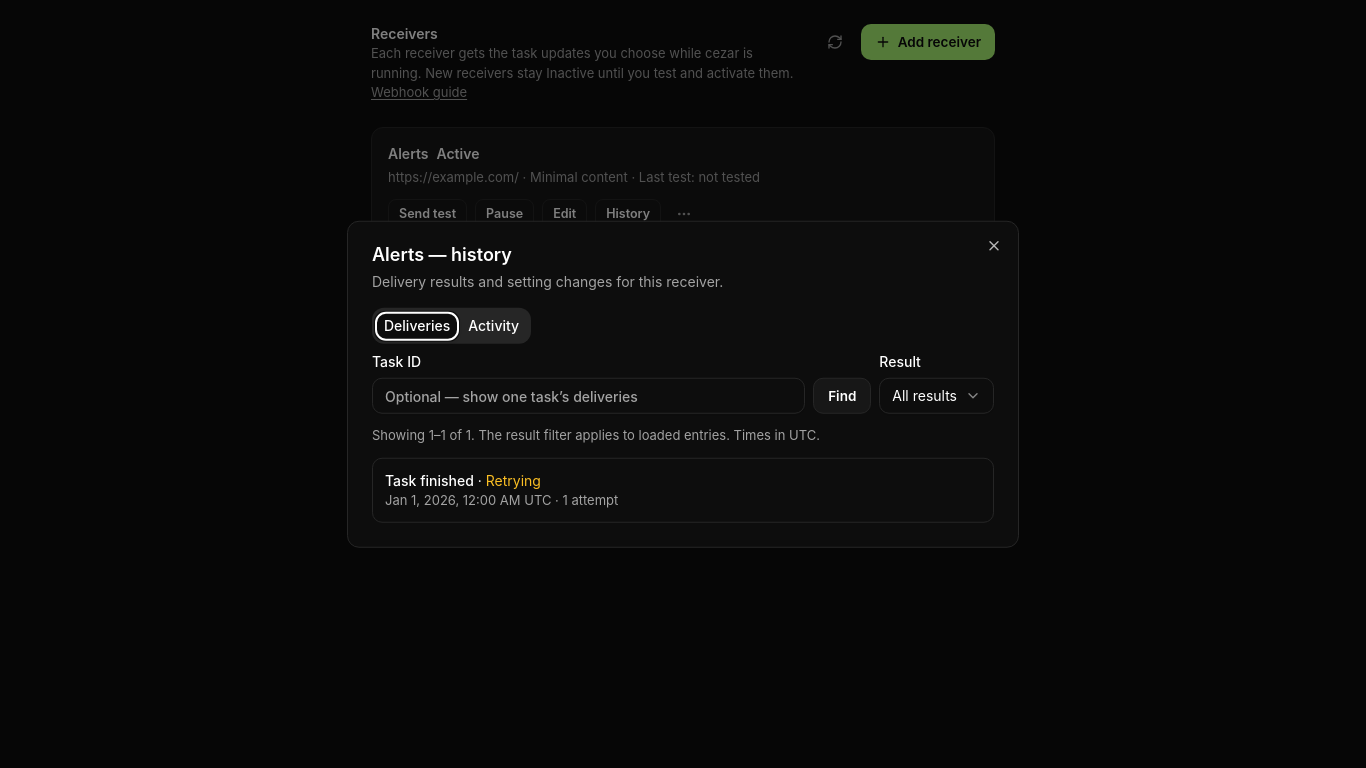
it: retry Cancel restores focus inside the still-open history
Click the button "Task finished" at x=429, y=480, box [385,470,981,509]
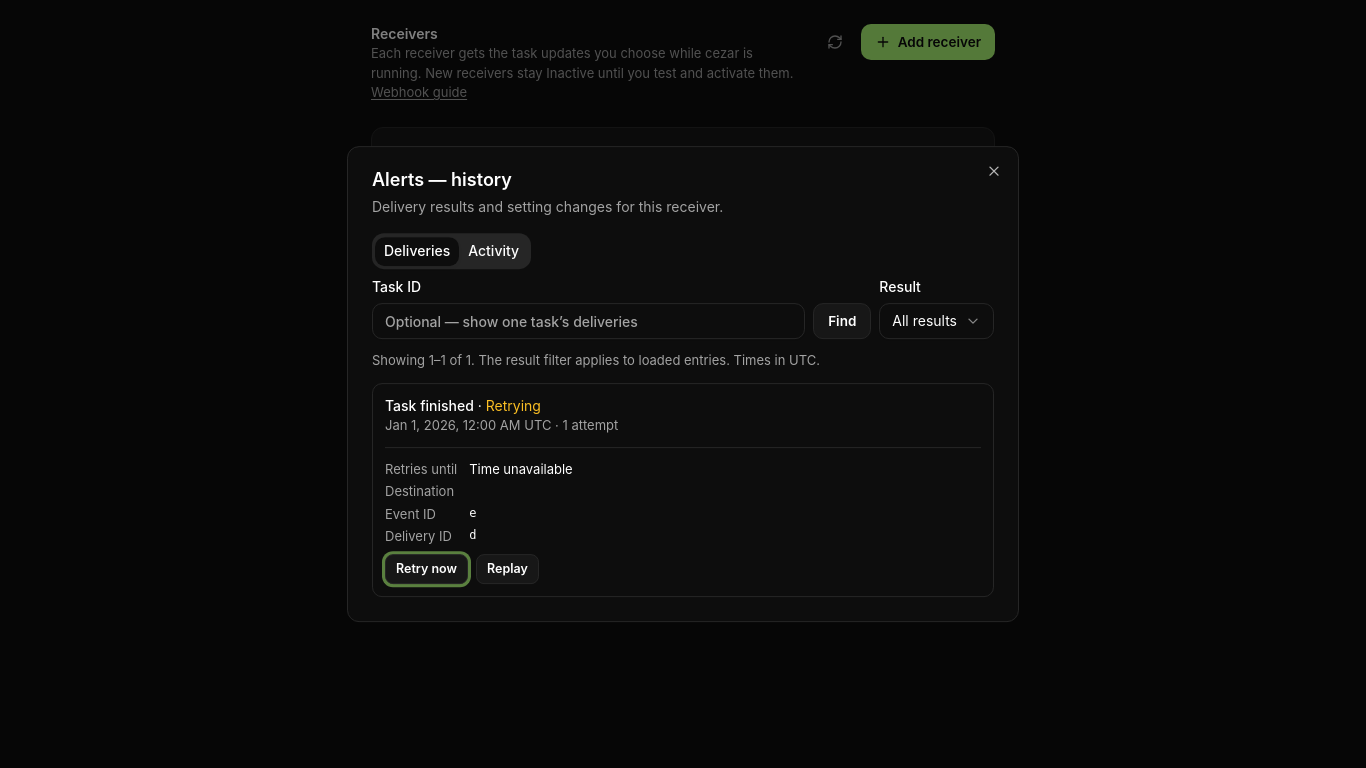
Click the button "Retry now" at x=426, y=569, box [385,554,468,584]
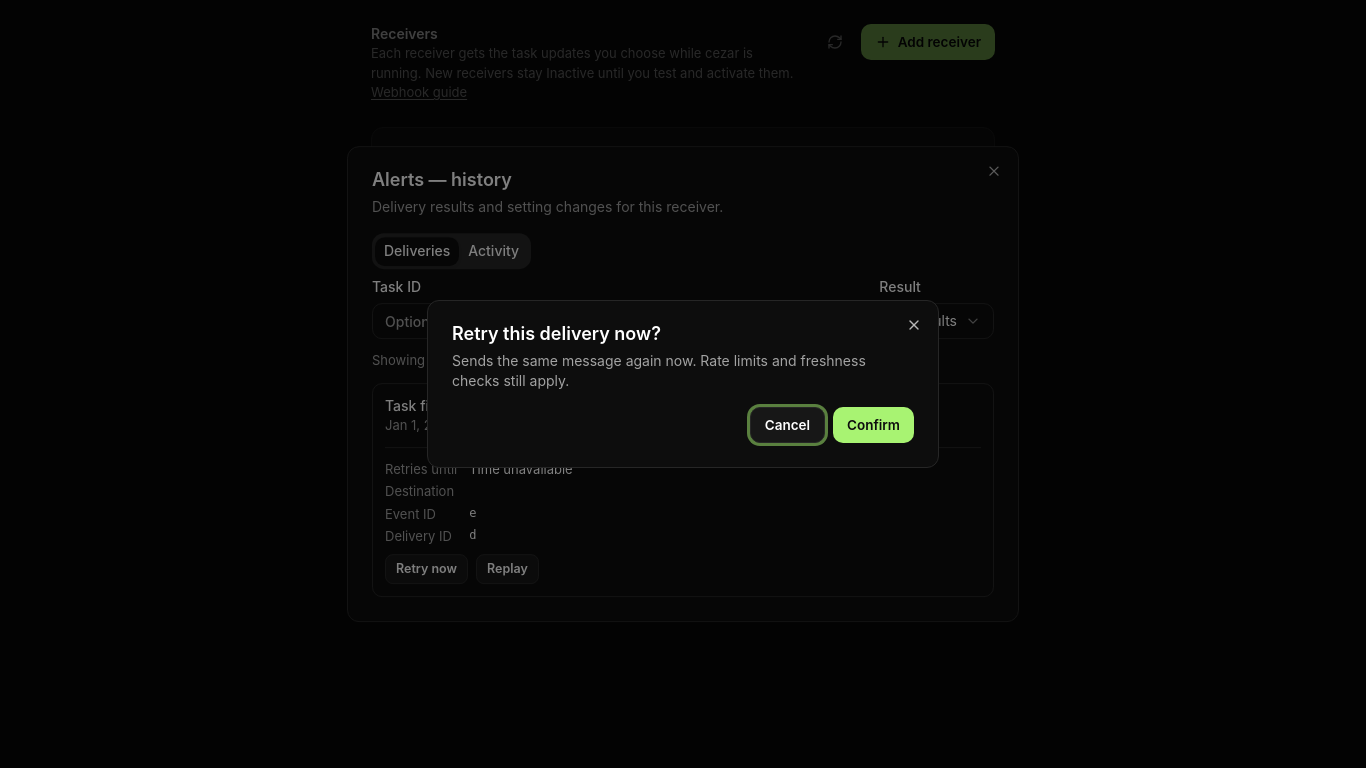
Check: the button "Confirm" is shown, box [833,407,914,443]
Click the button "Cancel" at x=787, y=425, box [750,407,825,443]
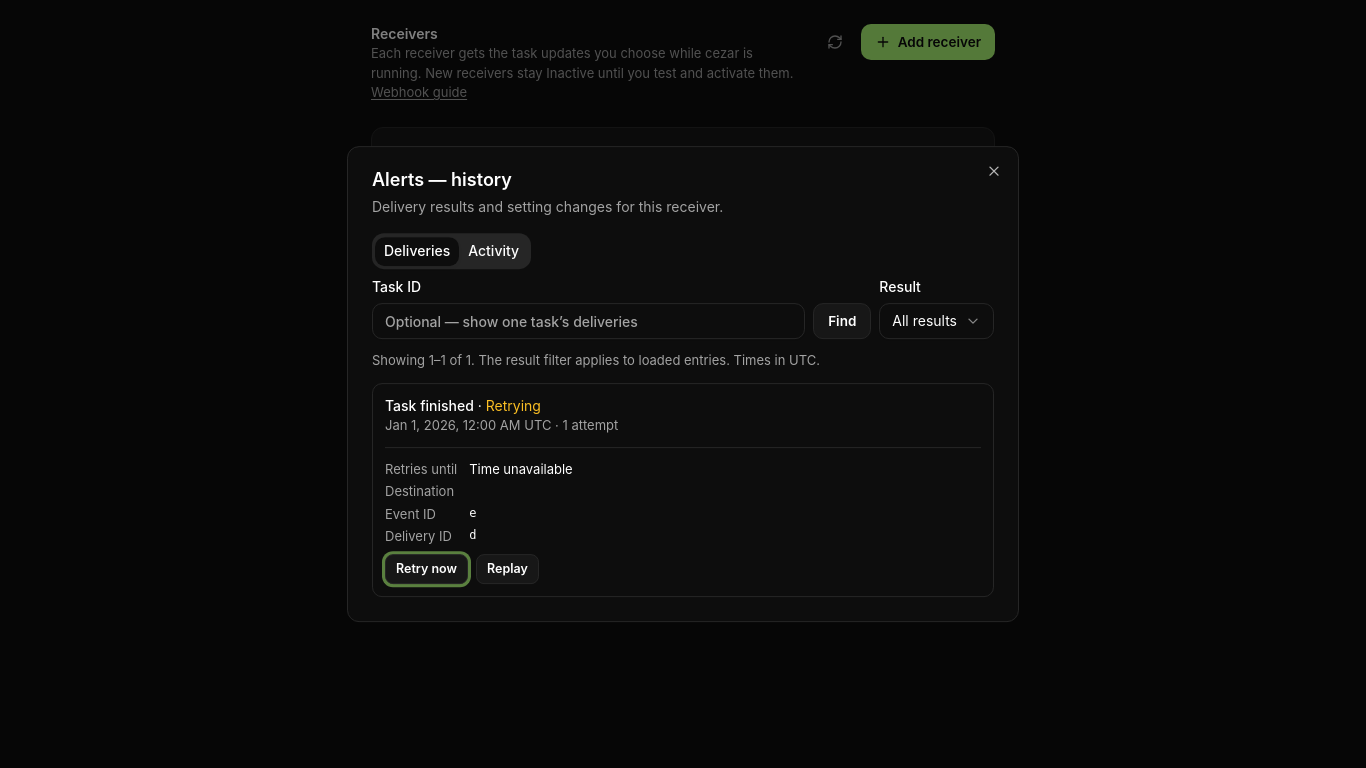
Check: the heading "Retry this delivery now?" is gone
